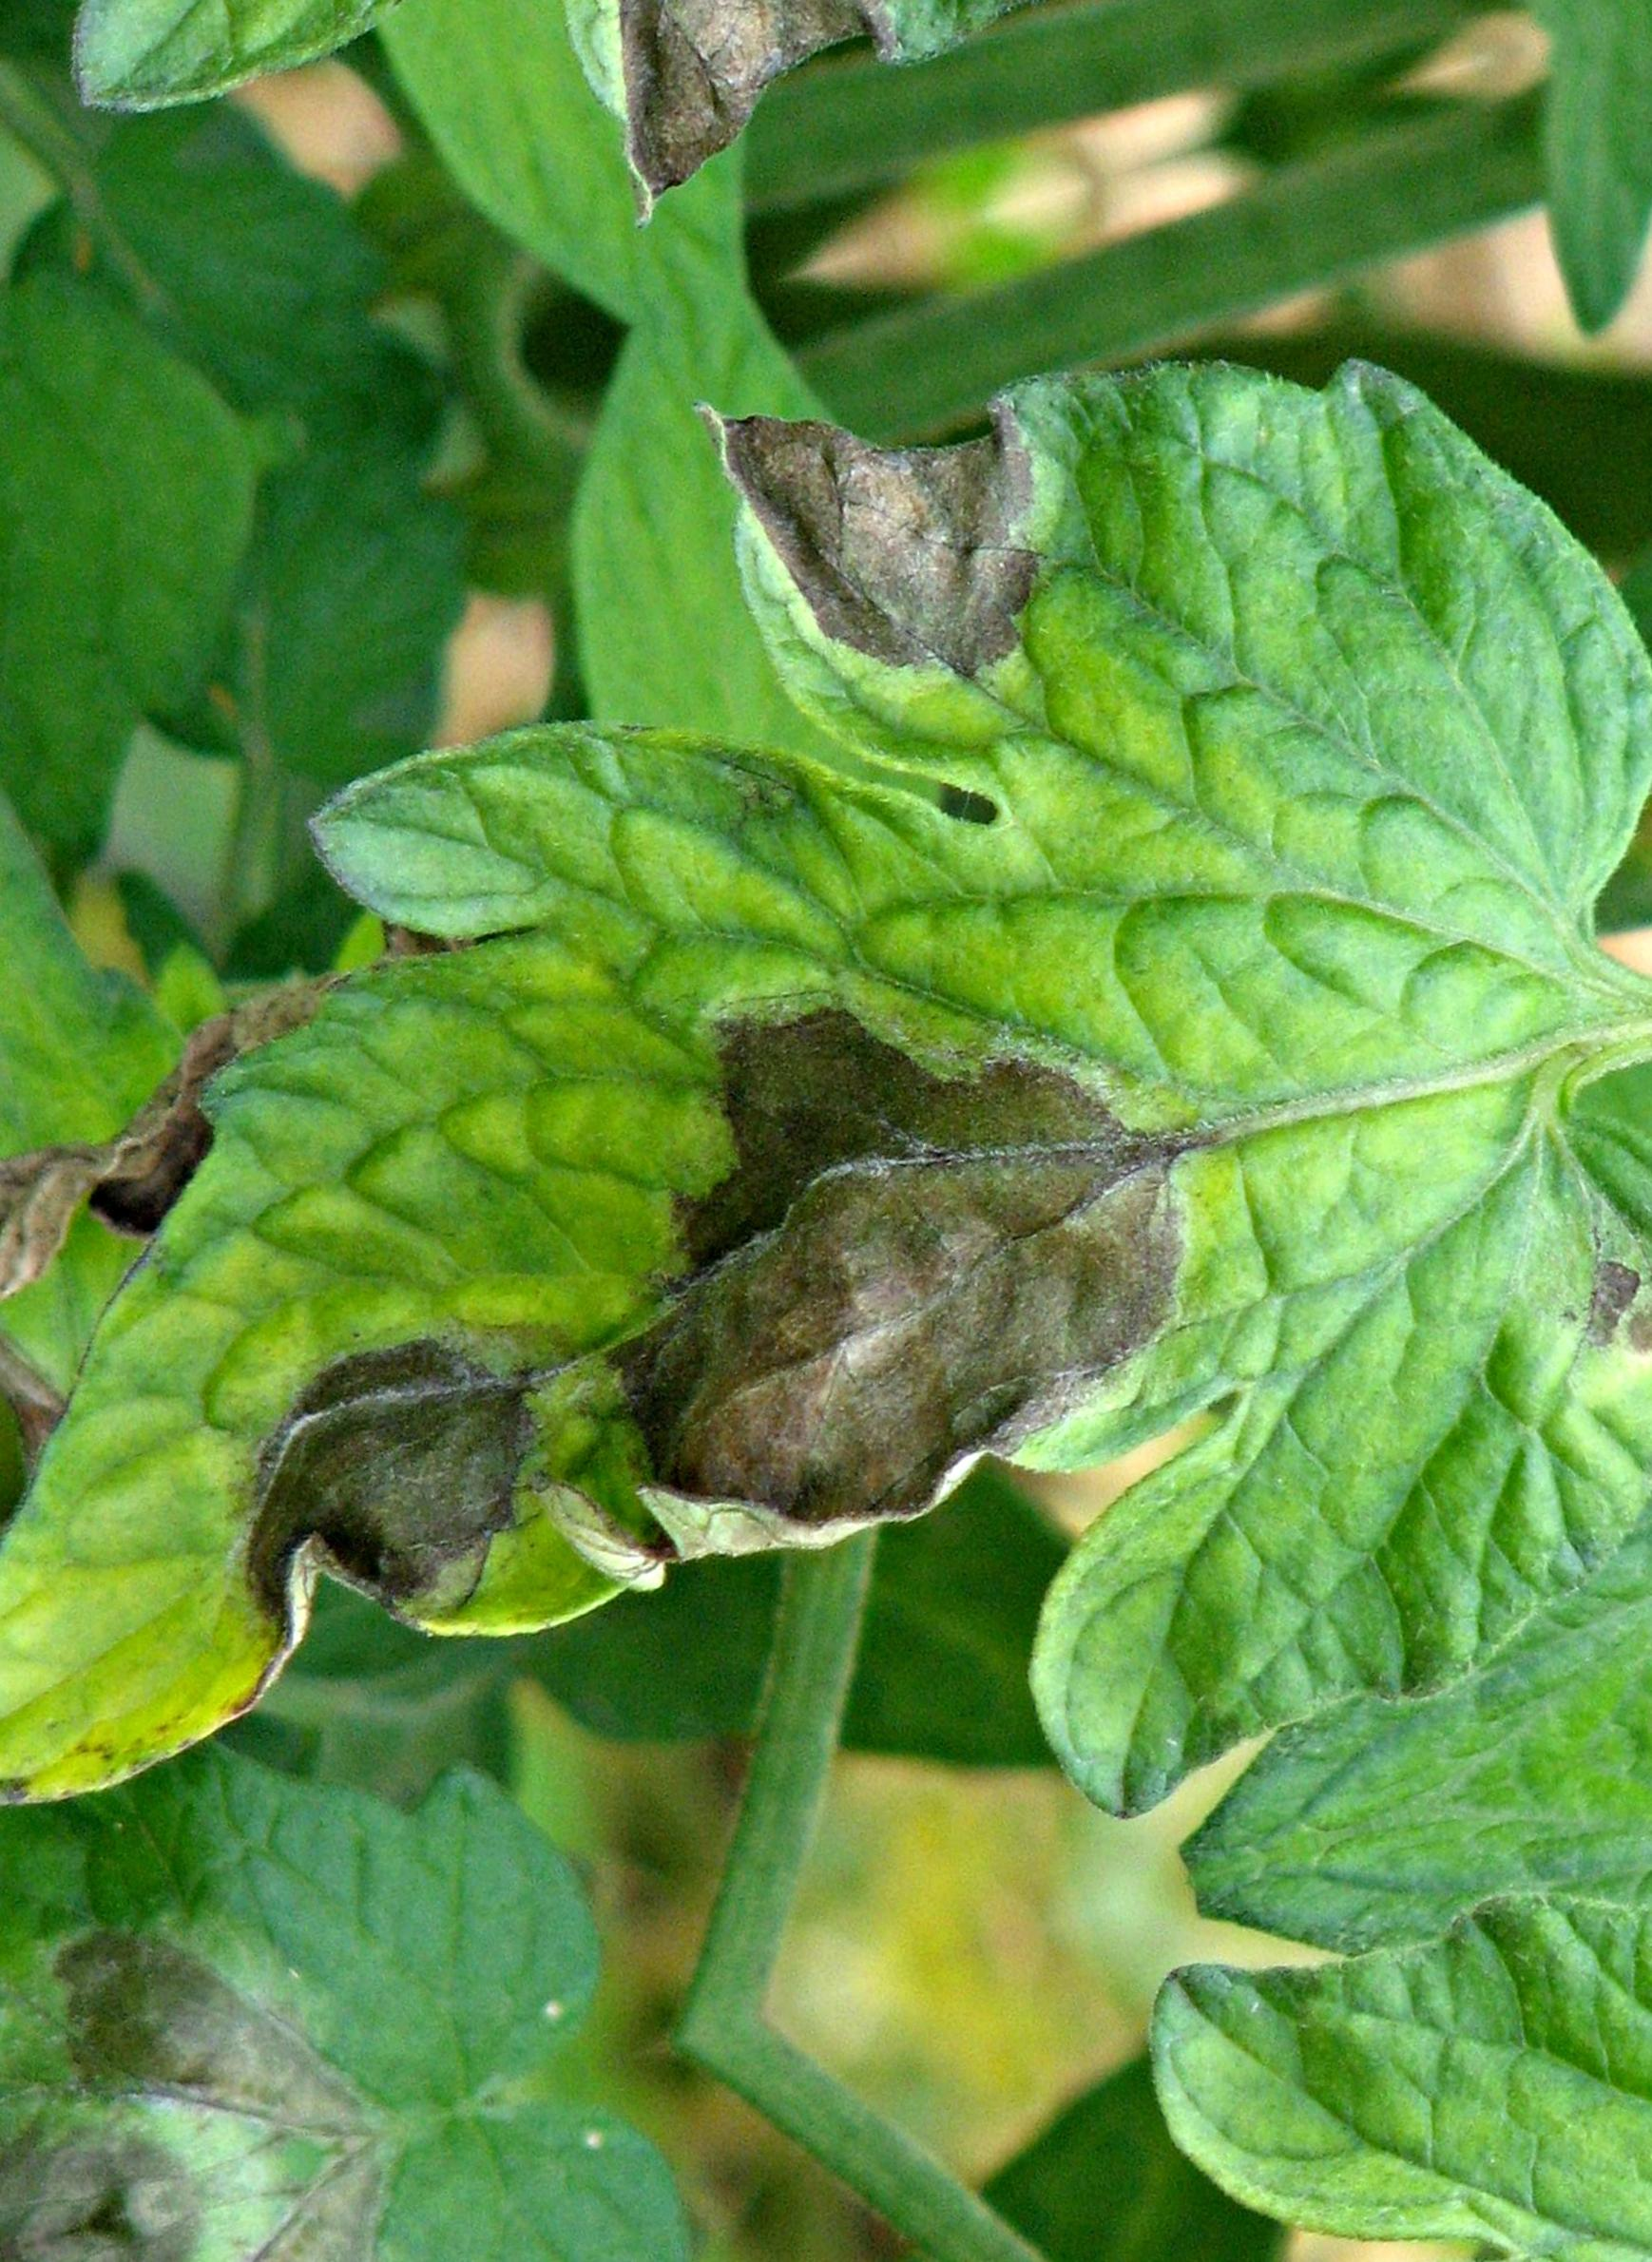Tomato leaf late blight: (0, 162, 1652, 2125)
